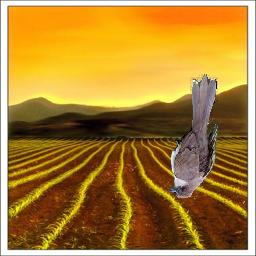Cuckoo: (166, 74, 218, 198)
